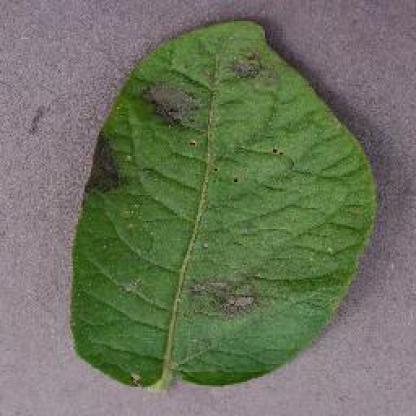bad leaf: (88, 55, 349, 372)
